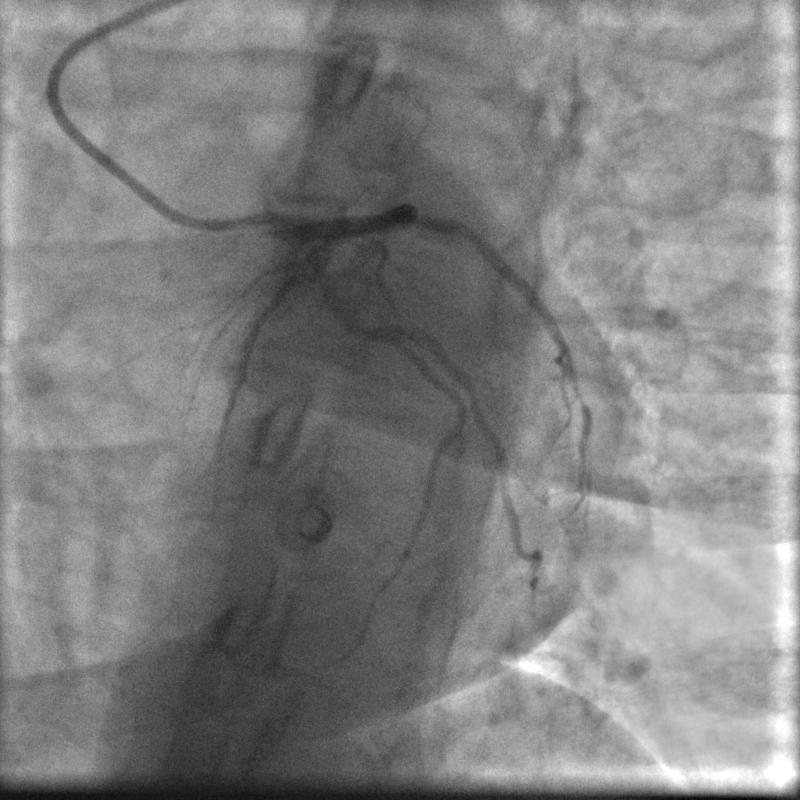Stenosis: (344, 307, 381, 345)
